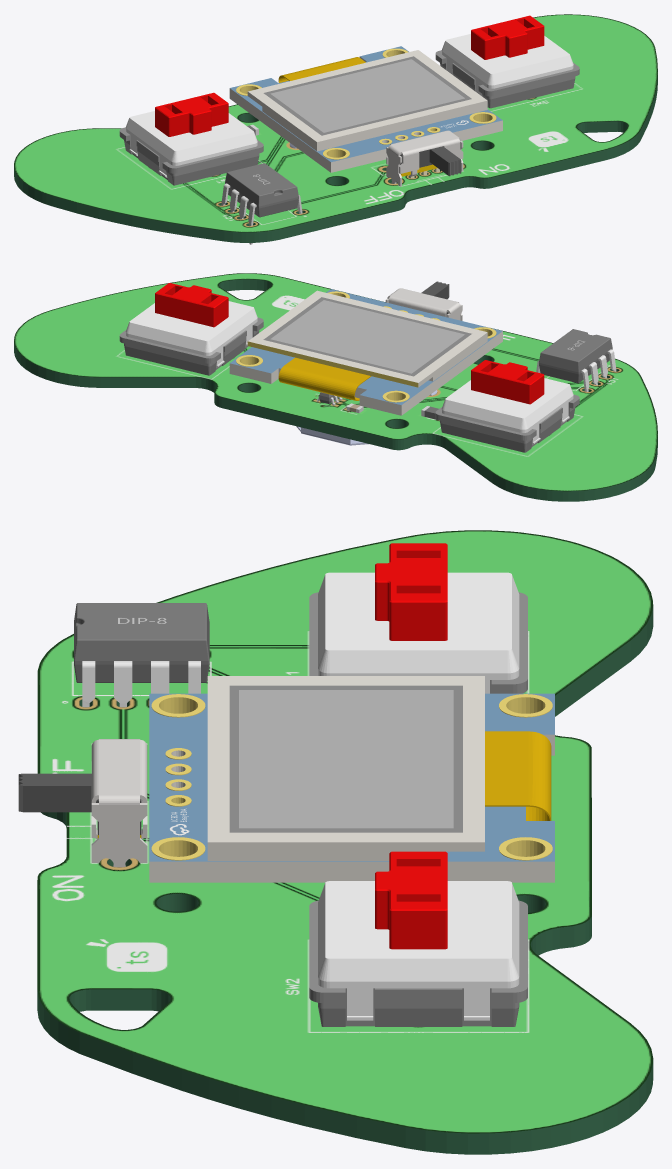
Rendered from attiny85-arcade-keychain.glb.
The picture shows the model from 3 angles, top to bottom: view 1: azimuth 30°, elevation 25°; view 2: azimuth 150°, elevation 25°; view 3: azimuth 270°, elevation 25°; orthographic projection. The views are drawn at different scales.
Parts seen in each view (by area): view 1: Box0, U1, SW1, SW2, IC1, S1; view 2: Box0, U1, SW1, SW2, IC1, S1, BT1; view 3: Box0, U1, SW2, SW1, IC1, S1.
Boxes of the visible parts, x1,y1,x2,y2 form: Box0: [14, 14, 657, 242]; U1: [229, 46, 502, 172]; SW1: [119, 92, 263, 185]; SW2: [435, 15, 579, 108]; IC1: [221, 163, 302, 244]; S1: [386, 130, 463, 200]; Box0: [14, 273, 657, 501]; U1: [229, 289, 502, 415]; SW1: [435, 360, 579, 452]; SW2: [119, 283, 263, 375]; IC1: [536, 329, 616, 391]; S1: [385, 281, 462, 320]; BT1: [296, 390, 437, 445]; Box0: [37, 530, 653, 1154]; U1: [149, 676, 554, 882]; SW2: [309, 851, 527, 1026]; SW1: [309, 543, 527, 693]; IC1: [74, 603, 209, 707]; S1: [18, 739, 147, 867].
Bounding box in the file's own units: 97.8 × 13.48 × 43.47.
32 materials, 2 textured.
